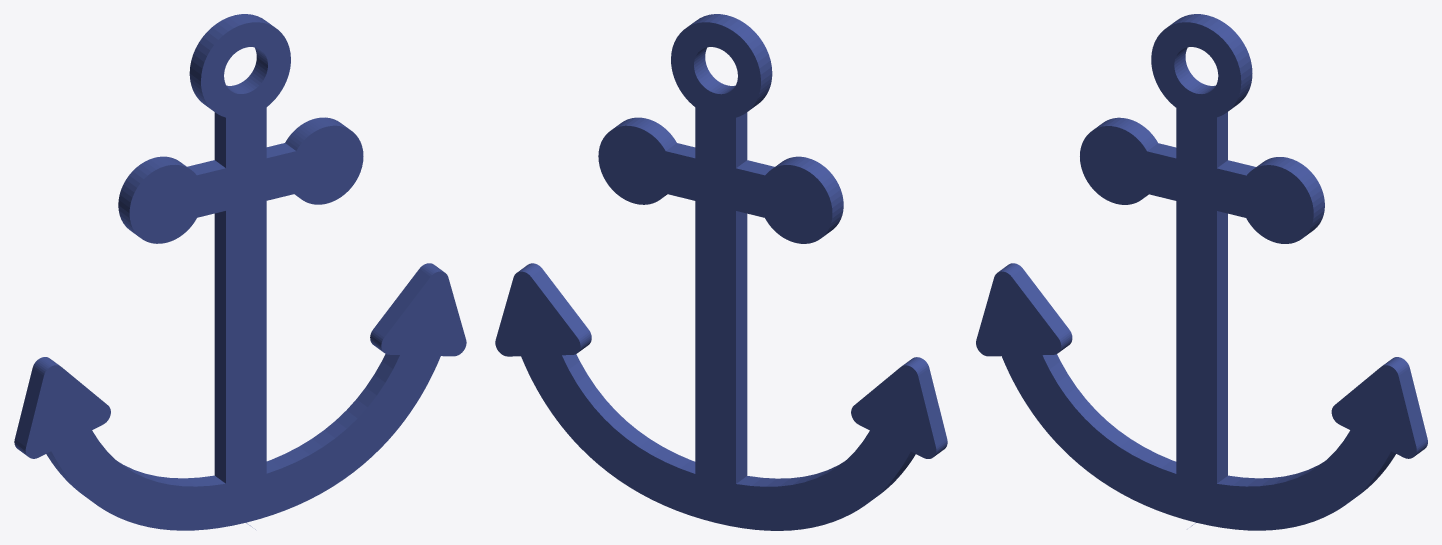
The model's file is anchor.gltf.
3 views of the same model, side by side, from view 1: azimuth 30°, elevation 25°; view 2: azimuth 150°, elevation 25°; view 3: azimuth 330°, elevation 25° (orthographic).
Parts seen in each view (by area): view 1: Curve; view 2: Curve; view 3: Curve.
Part boxes in pixels (x1,y1,x2,y2): Curve: [14, 14, 466, 530]; Curve: [495, 14, 947, 530]; Curve: [976, 14, 1427, 530].
Size of the model in its own units: 0.2265 by 0.2452 by 0.02.
